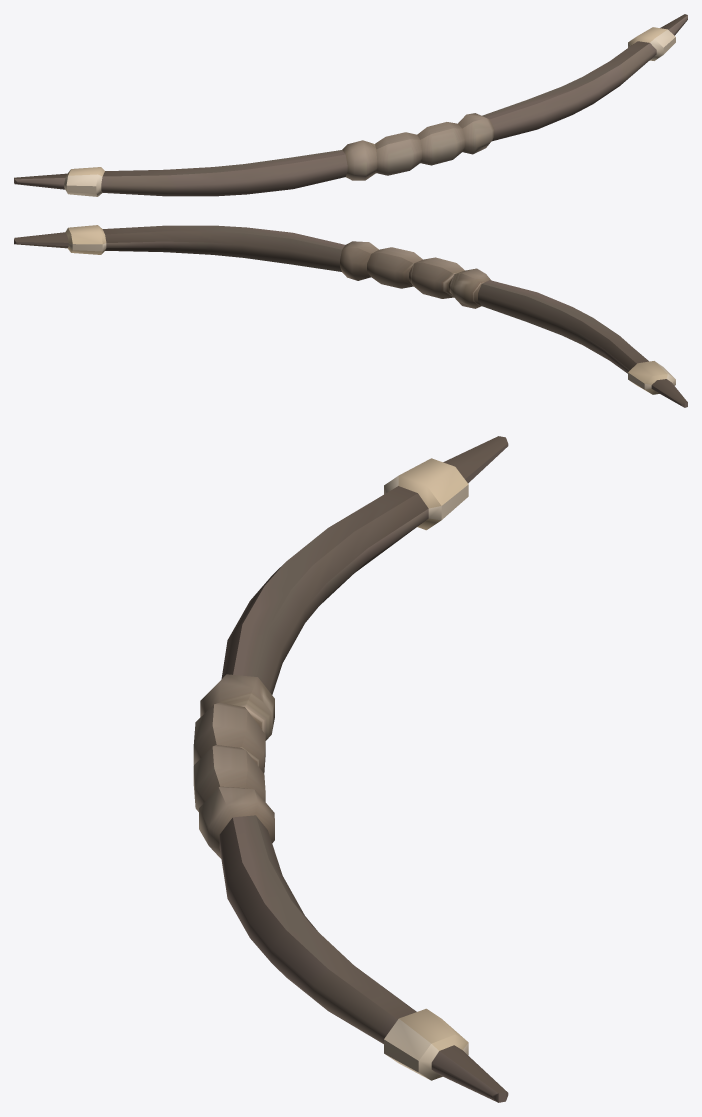
The model's file is wpn_bow_A.glb.
3 renders of one model, top to bottom at view 1: azimuth 30°, elevation 25°; view 2: azimuth 150°, elevation 25°; view 3: azimuth 270°, elevation 25°, orthographic. The views are drawn at different scales.
Parts seen in each view (by area): view 1: bow_A; view 2: bow_A; view 3: bow_A.
Boxes of the visible parts, x1,y1,x2,y2 form: bow_A: [14, 14, 687, 196]; bow_A: [14, 225, 687, 407]; bow_A: [193, 436, 508, 1102].
Bounding box in the file's own units: 1.96 × 0.0916 × 0.3957.
Materials: 1 (1 with a texture image).
